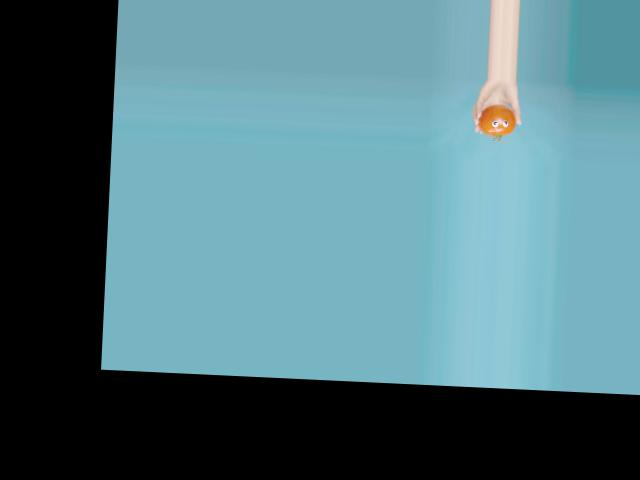tomato: (478, 103, 517, 137)
